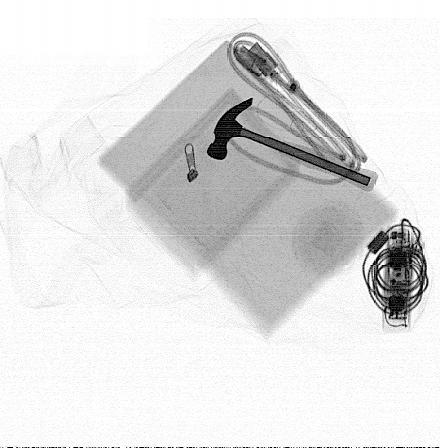Hammer: (207, 97, 378, 193)
